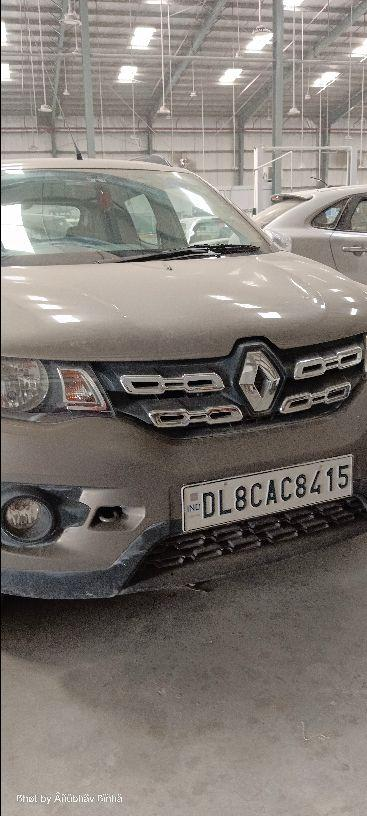license_plate: (179, 452, 354, 533)
